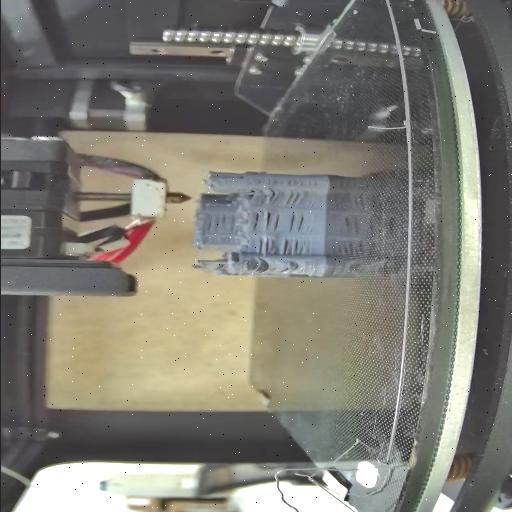cracks: (251, 212, 310, 234), (255, 236, 306, 256), (202, 212, 235, 237), (256, 176, 320, 186), (286, 188, 306, 208), (256, 189, 278, 207), (248, 259, 268, 277), (278, 266, 292, 274)
